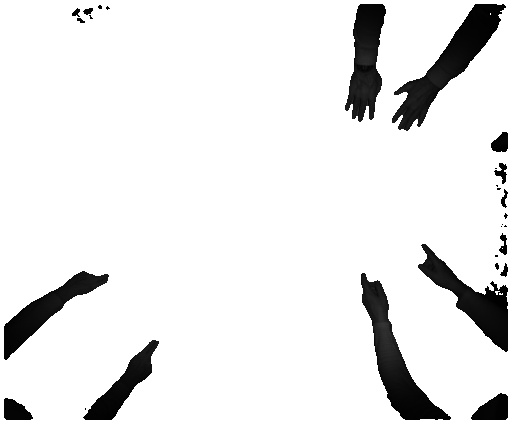hand: (392, 80, 441, 134), (344, 70, 383, 127), (416, 240, 460, 288), (122, 336, 159, 387), (68, 264, 111, 303), (360, 272, 391, 319)
